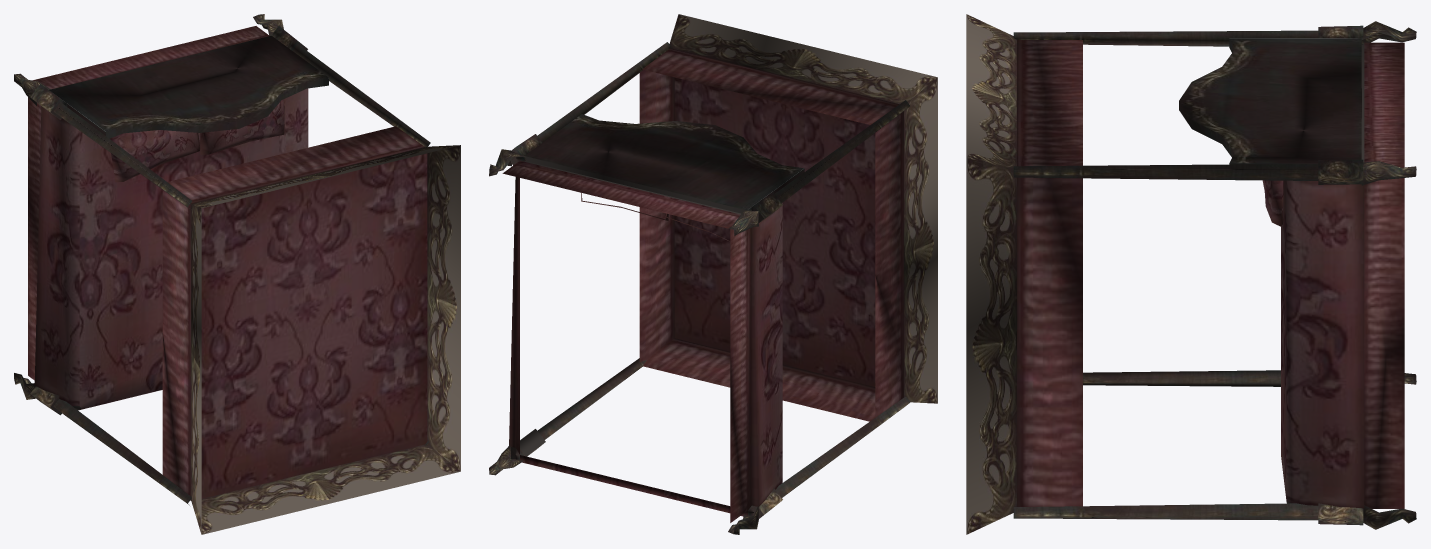
The model's file is furniture_canopybed.glb.
The picture shows the model from 3 angles, left to right: view 1: azimuth 30°, elevation 25°; view 2: azimuth 150°, elevation 25°; view 3: azimuth 270°, elevation 25°; orthographic projection. The views are drawn at different scales.
Bounding box in the file's own units: 68.33 × 81.93 × 89.04.
2 materials, 2 textured.
